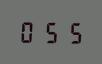five: (40, 19, 60, 44), (61, 20, 81, 44)
zero: (18, 19, 38, 43)
